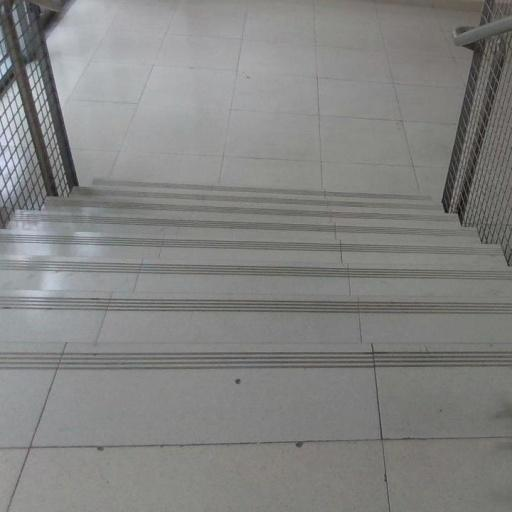stairs: (0, 180, 511, 445)
